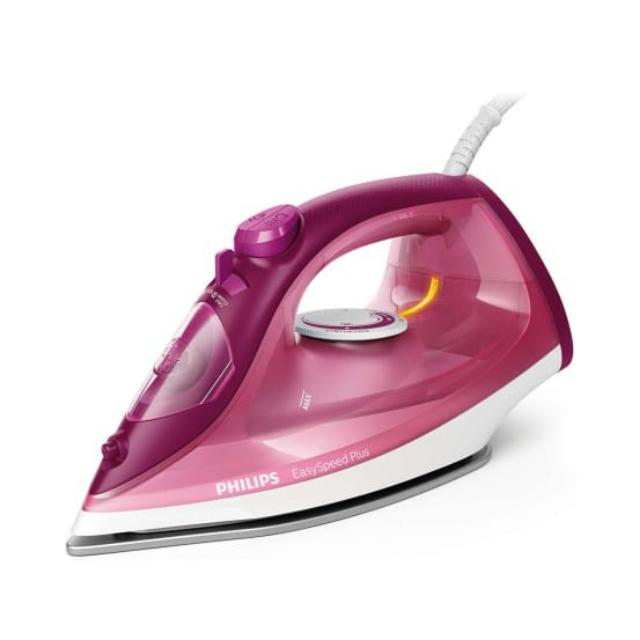Clothes-Iron: (50, 152, 596, 562)
